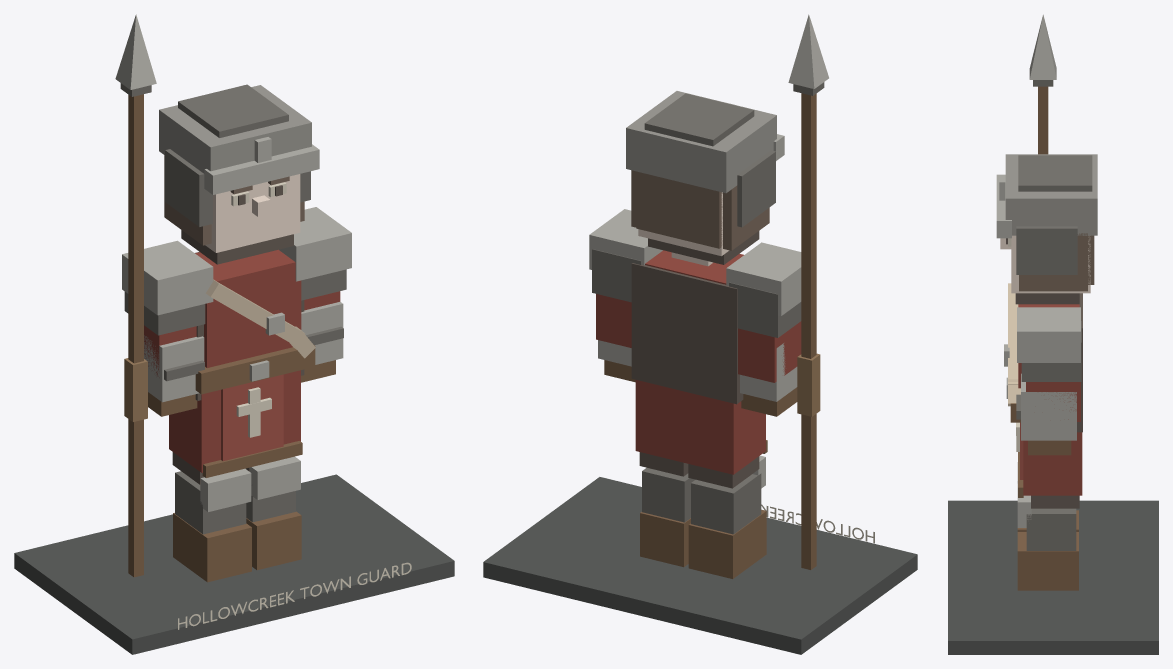
File: Townguard.fbx
3 views of the same model, side by side, from view 1: azimuth 30°, elevation 25°; view 2: azimuth 150°, elevation 25°; view 3: azimuth 270°, elevation 25° (orthographic). The views are drawn at different scales.
Parts seen in each view (by area): view 1: Town Guard | display plinth, Town Guard | red tabard torso, Town Guard | spear wooden shaft, Town Guard | helmet crown, Town Guard | square face, Town Guard | left shoulder plate, Town Guard | long red tabard, Town Guard | left boot, Town Guard | tabard front panel, Town Guard | helmet top tier, Town Guard | right shoulder plate, Town Guard | helmet brow (+20 smaller); view 2: Town Guard | display plinth, Town Guard | under torso, Town Guard | long red tabard, Town Guard | helmet crown, Town Guard | spear wooden shaft, Town Guard | hair back, Town Guard | left boot, Town Guard | helmet top tier, Town Guard | left shoulder plate, Town Guard | left shin greave, Town Guard | left red sleeve, Town Guard | left upper arm armor (+17 smaller); view 3: Town Guard | display plinth, Town Guard | helmet crown, Town Guard | right shoulder plate, Town Guard | helmet right cheek guard, Town Guard | right forearm bracer, Town Guard | helmet top tier, Town Guard | long red tabard, Town Guard | right boot, Town Guard | right shin greave, Town Guard | right hair side, Town Guard | right upper arm armor, Town Guard | spear steel point (+12 smaller).
Part boxes in pixels (bbox=[...]): Town Guard | display plinth: bbox=[14, 474, 454, 654]; Town Guard | red tabard torso: bbox=[195, 249, 301, 367]; Town Guard | spear wooden shaft: bbox=[128, 94, 143, 577]; Town Guard | helmet crown: bbox=[159, 85, 311, 173]; Town Guard | square face: bbox=[205, 174, 300, 252]; Town Guard | left shoulder plate: bbox=[122, 240, 213, 315]; Town Guard | long red tabard: bbox=[169, 370, 300, 472]; Town Guard | left boot: bbox=[173, 513, 251, 582]; Town Guard | tabard front panel: bbox=[221, 374, 283, 461]; Town Guard | helmet top tier: bbox=[178, 84, 288, 137]; Town Guard | right shoulder plate: bbox=[279, 207, 351, 281]; Town Guard | helmet brow: bbox=[204, 144, 319, 194]; Town Guard | display plinth: bbox=[483, 477, 917, 654]; Town Guard | under torso: bbox=[631, 263, 743, 404]; Town Guard | long red tabard: bbox=[635, 380, 765, 474]; Town Guard | helmet crown: bbox=[626, 91, 776, 193]; Town Guard | spear wooden shaft: bbox=[801, 93, 816, 569]; Town Guard | hair back: bbox=[636, 171, 722, 248]; Town Guard | left boot: bbox=[688, 509, 766, 578]; Town Guard | helmet top tier: bbox=[644, 93, 754, 146]; Town Guard | left shoulder plate: bbox=[726, 242, 801, 315]; Town Guard | left shin greave: bbox=[691, 473, 761, 534]; Town Guard | left red sleeve: bbox=[738, 321, 801, 382]; Town Guard | left upper arm armor: bbox=[729, 282, 801, 337]; Town Guard | display plinth: bbox=[948, 500, 1158, 654]; Town Guard | helmet crown: bbox=[1005, 154, 1097, 235]; Town Guard | right shoulder plate: bbox=[1017, 307, 1080, 362]; Town Guard | helmet right cheek guard: bbox=[1016, 226, 1077, 274]; Town Guard | right forearm bracer: bbox=[1021, 373, 1076, 440]; Town Guard | helmet top tier: bbox=[1018, 155, 1092, 191]; Town Guard | long red tabard: bbox=[1023, 432, 1082, 495]; Town Guard | right boot: bbox=[1017, 532, 1078, 590]; Town Guard | right shin greave: bbox=[1026, 508, 1076, 550]; Town Guard | right hair side: bbox=[1019, 233, 1087, 291]; Town Guard | right upper arm armor: bbox=[1021, 321, 1081, 381]; Town Guard | spear steel point: bbox=[1029, 14, 1056, 79].
Bounding box in the file's own units: 260 × 453 × 167.
